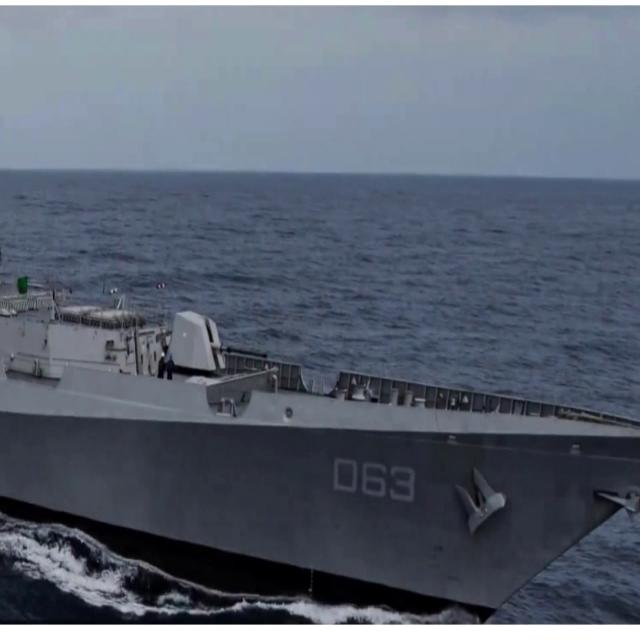OCR: (327, 455, 418, 513)
